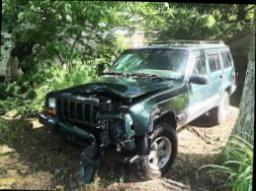Bonnet: (55, 75, 180, 101)
Bumper: (33, 113, 149, 184)
Light: (93, 102, 137, 138)
